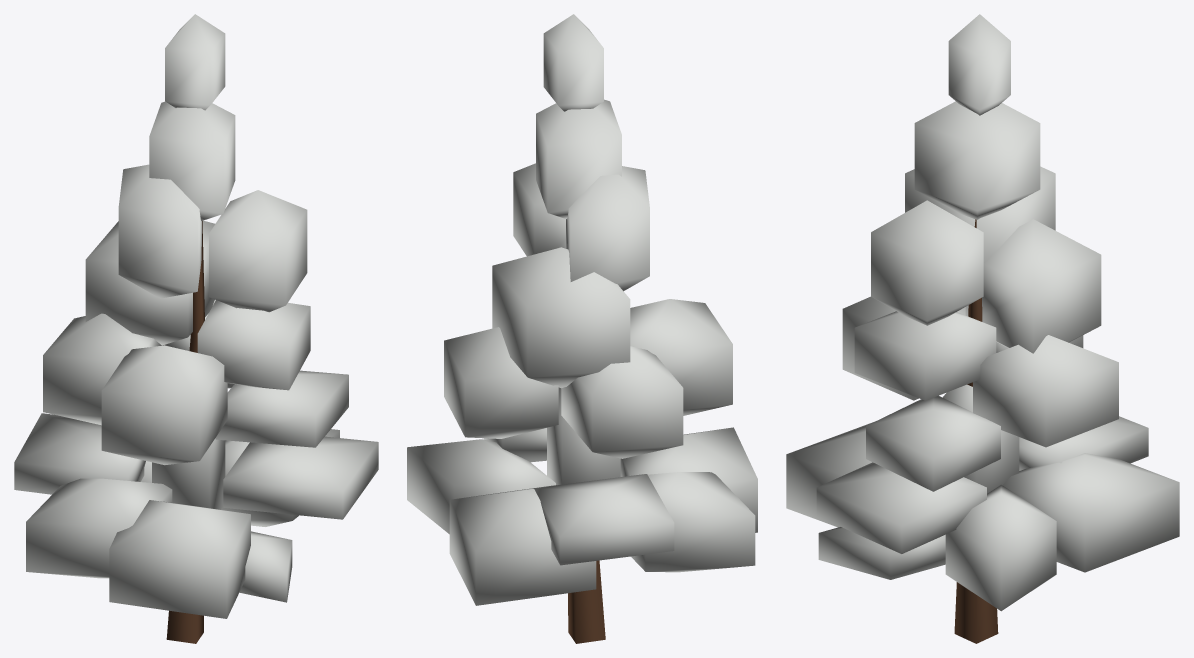
The picture shows the model from 3 angles, left to right: view 1: azimuth 30°, elevation 25°; view 2: azimuth 150°, elevation 25°; view 3: azimuth 270°, elevation 25°; orthographic projection.
Visible parts, largest first — view 1: crown, trunk; view 2: crown, trunk; view 3: crown, trunk.
Part boxes in pixels (x1=…): crown: x1=14, y1=14, x2=378, y2=618; trunk: x1=166, y1=221, x2=204, y2=643; crown: x1=407, y1=14, x2=757, y2=605; trunk: x1=568, y1=560, x2=605, y2=643; crown: x1=786, y1=14, x2=1179, y2=611; trunk: x1=954, y1=219, x2=998, y2=643.
Bounding box in the file's own units: 10.91 × 19.52 × 11.11.
